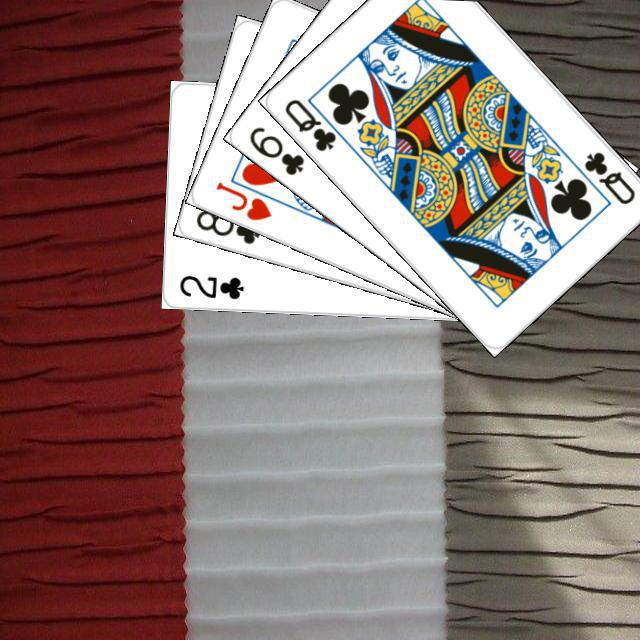2c: (175, 270, 246, 301)
6c: (244, 121, 306, 177)
8c: (191, 204, 262, 246)
Jh: (211, 176, 273, 223)
Qc: (279, 91, 350, 154), (579, 146, 638, 207)
